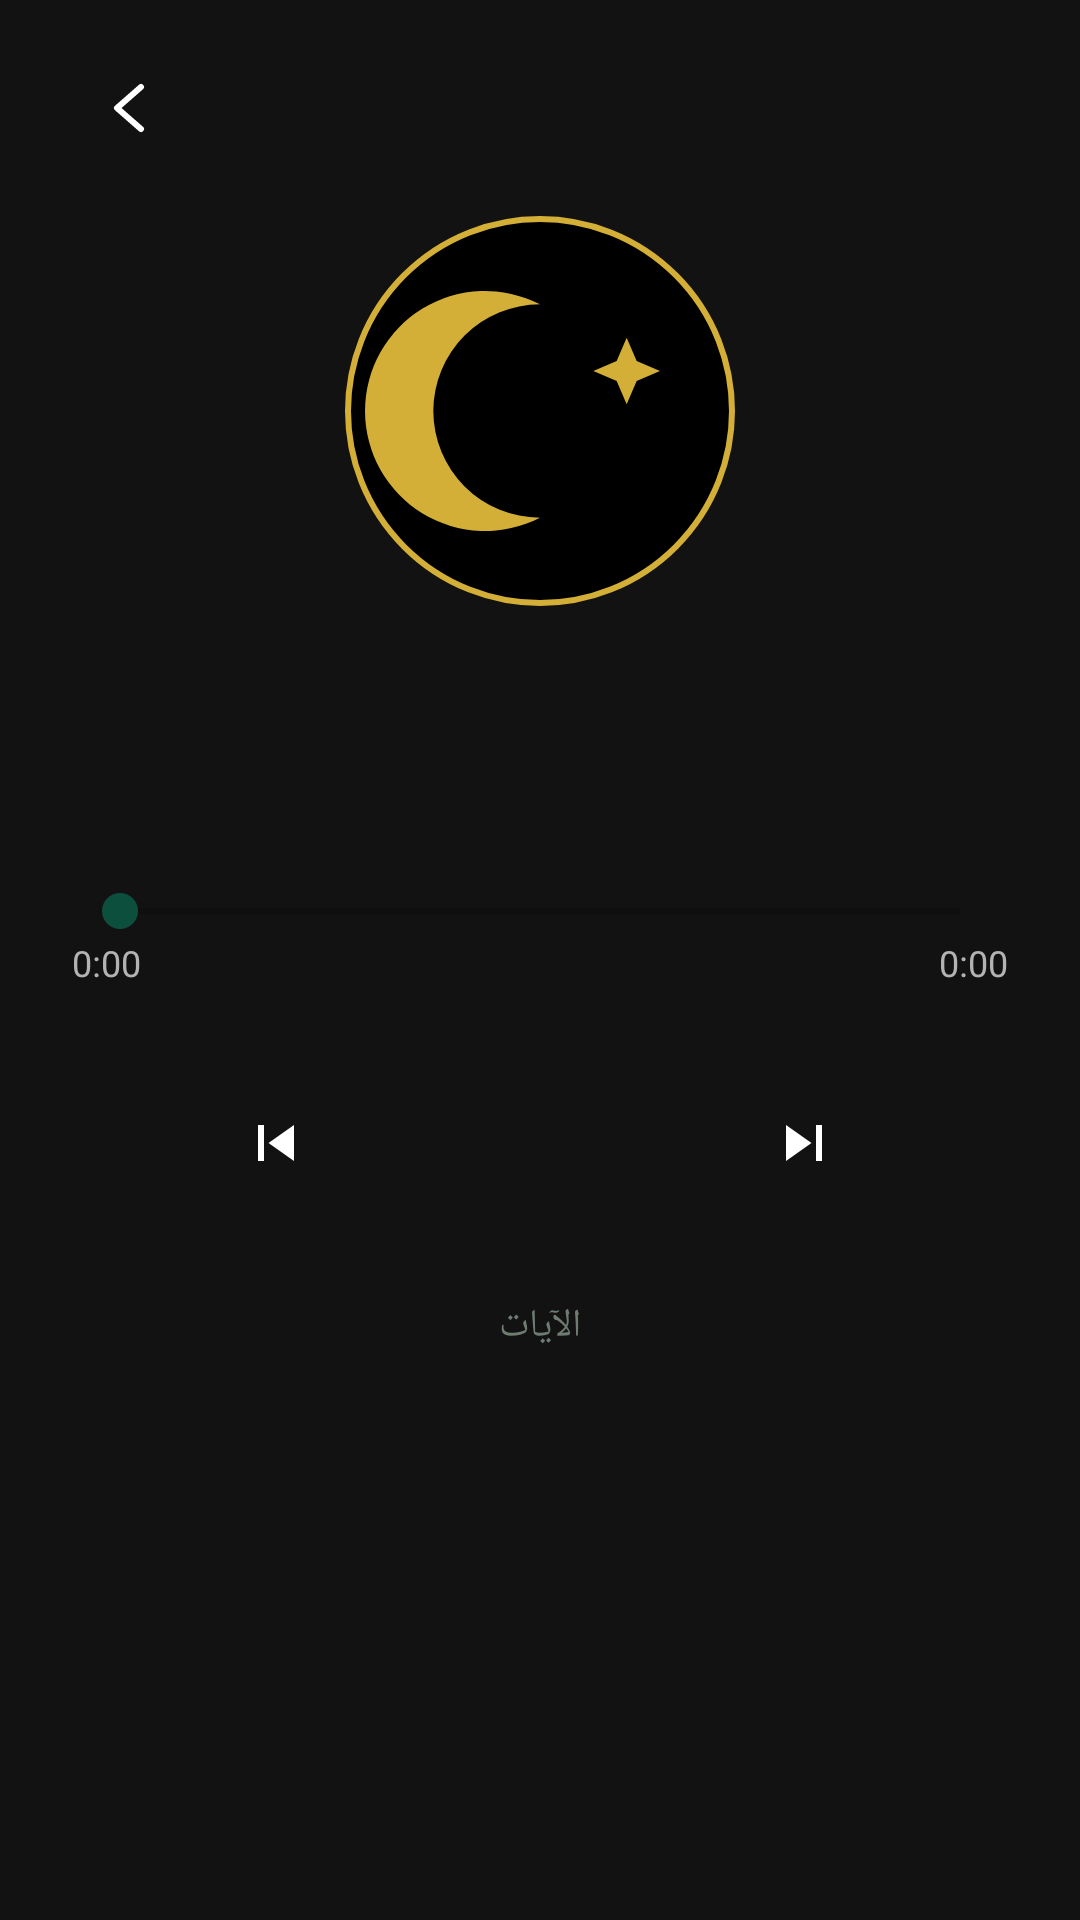

Screen size 1080*1920. Icon name, then its box in pixels as (x1, y1, x2, y2):
التالي: (786, 1125, 822, 1161)
السابق: (258, 1125, 294, 1161)
رجوع: (113, 84, 144, 132)
